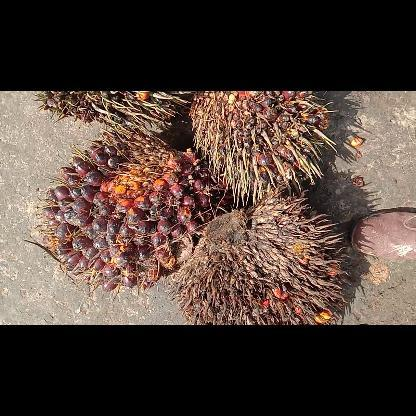TBS abnormal: (172, 199, 348, 323), (188, 91, 334, 201)
Terlalu masak: (34, 130, 214, 288)
